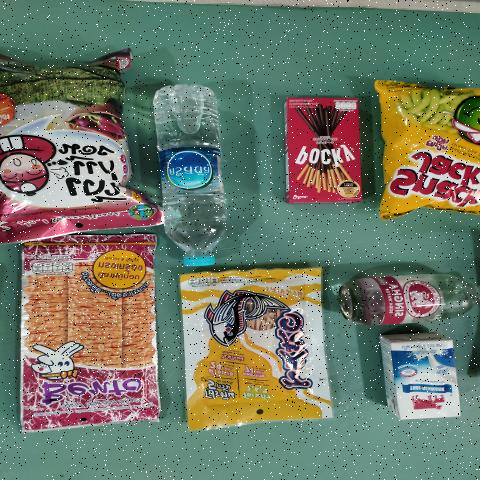bento_red: (38, 243, 152, 422)
crystal: (156, 78, 228, 264)
pokki: (291, 98, 361, 197)
singha_soda: (332, 274, 480, 326)
taokaenoi: (0, 61, 131, 216)
taro_yellow: (192, 280, 330, 416)
thai_denmark: (385, 336, 462, 423)
